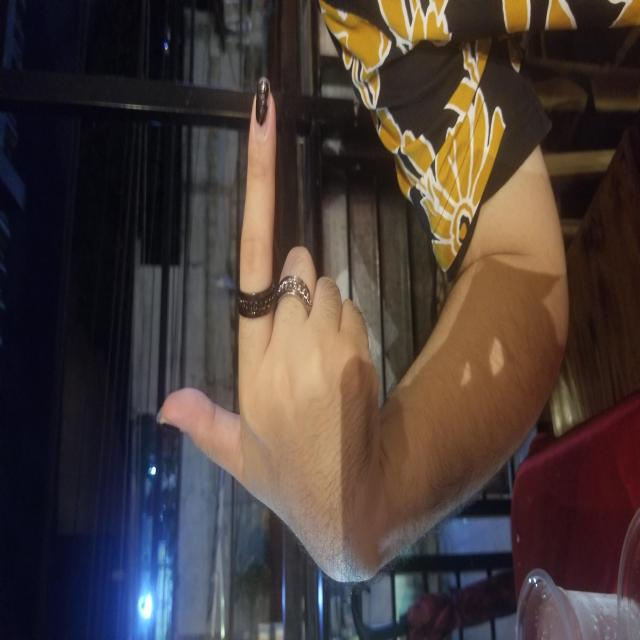G: (50, 156, 554, 376)
